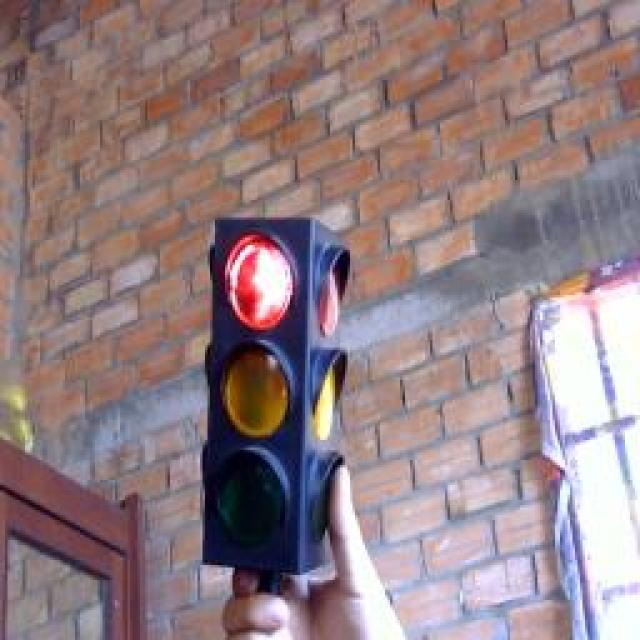-: (219, 226, 301, 341)
